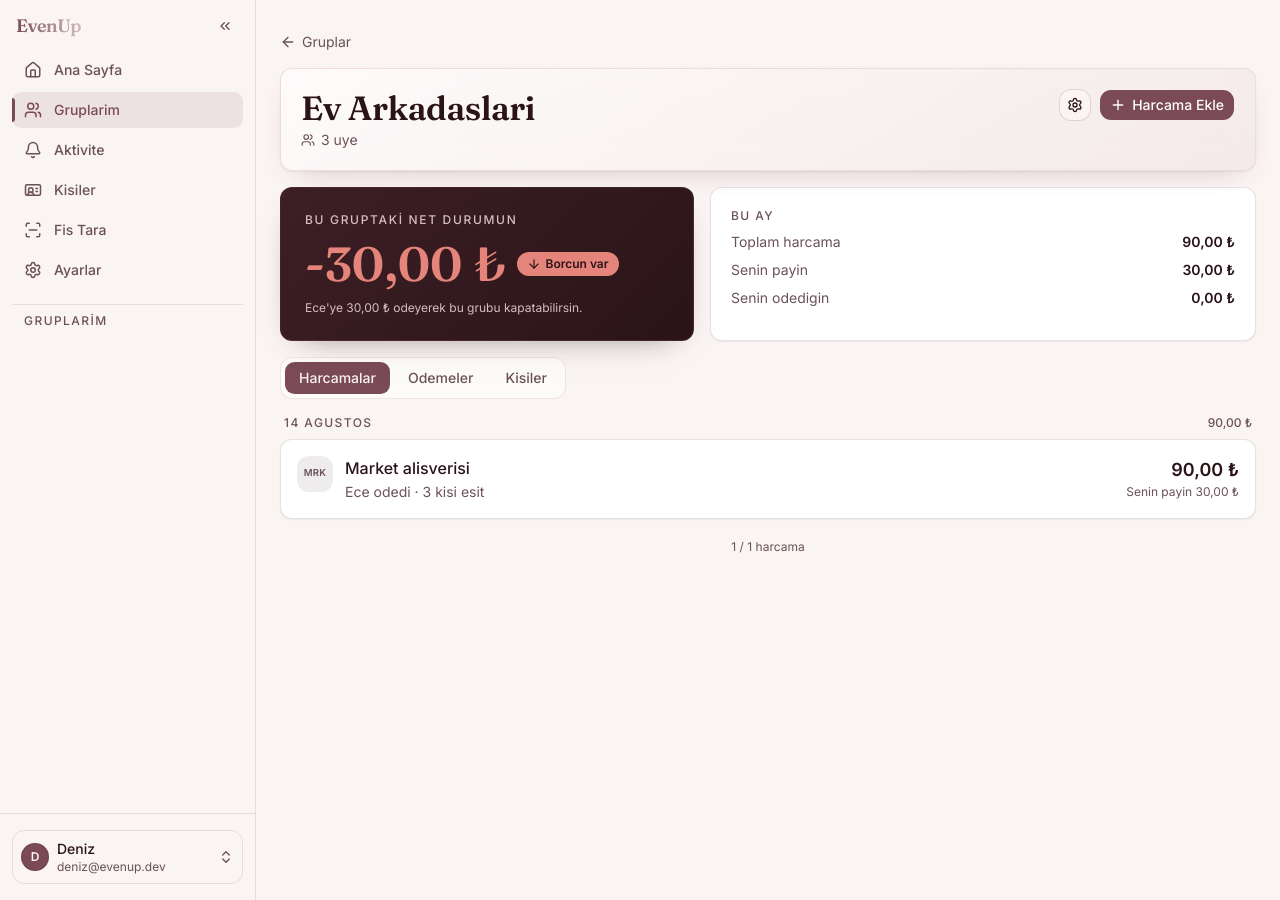
kisiler sekmesi — takma isimler › owner olmayan hedefte "Gruptan cikar" menude YOK (kendi satirinda)
Press the mouse on the tab "Kisiler" at (526, 378), box [491,362,561,394]
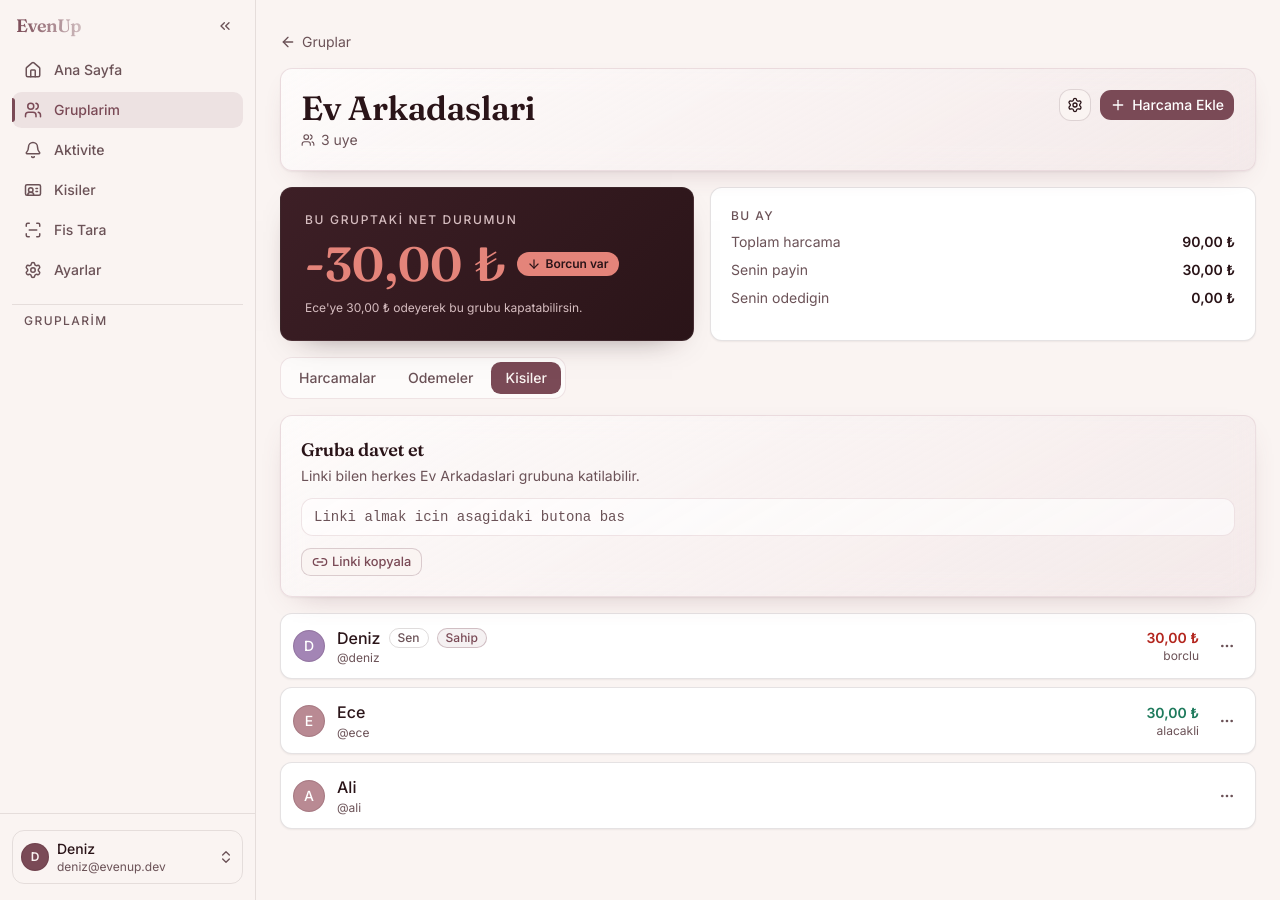
Press the mouse on the button named "Deniz icin islemler" at (1227, 646), box [1211,630,1243,662]
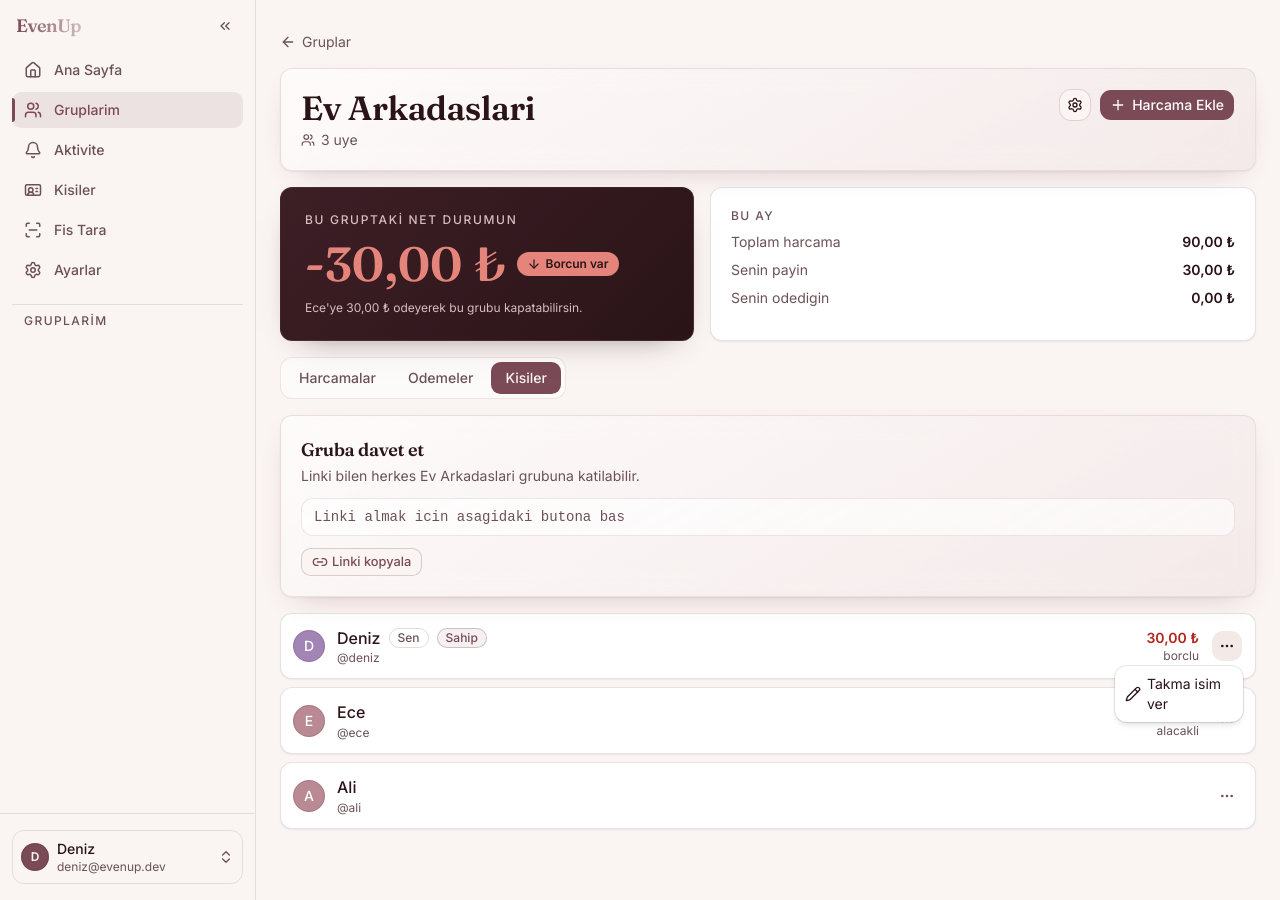
expect the menu item "Takma isim ver" is shown: met, box [1125,675,1221,712]
